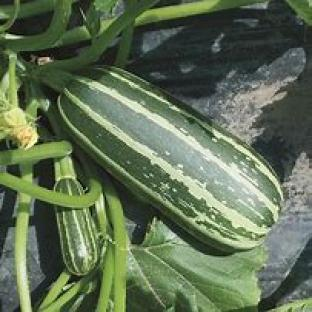Zucchini: (59, 68, 282, 250), (56, 207, 99, 276)
